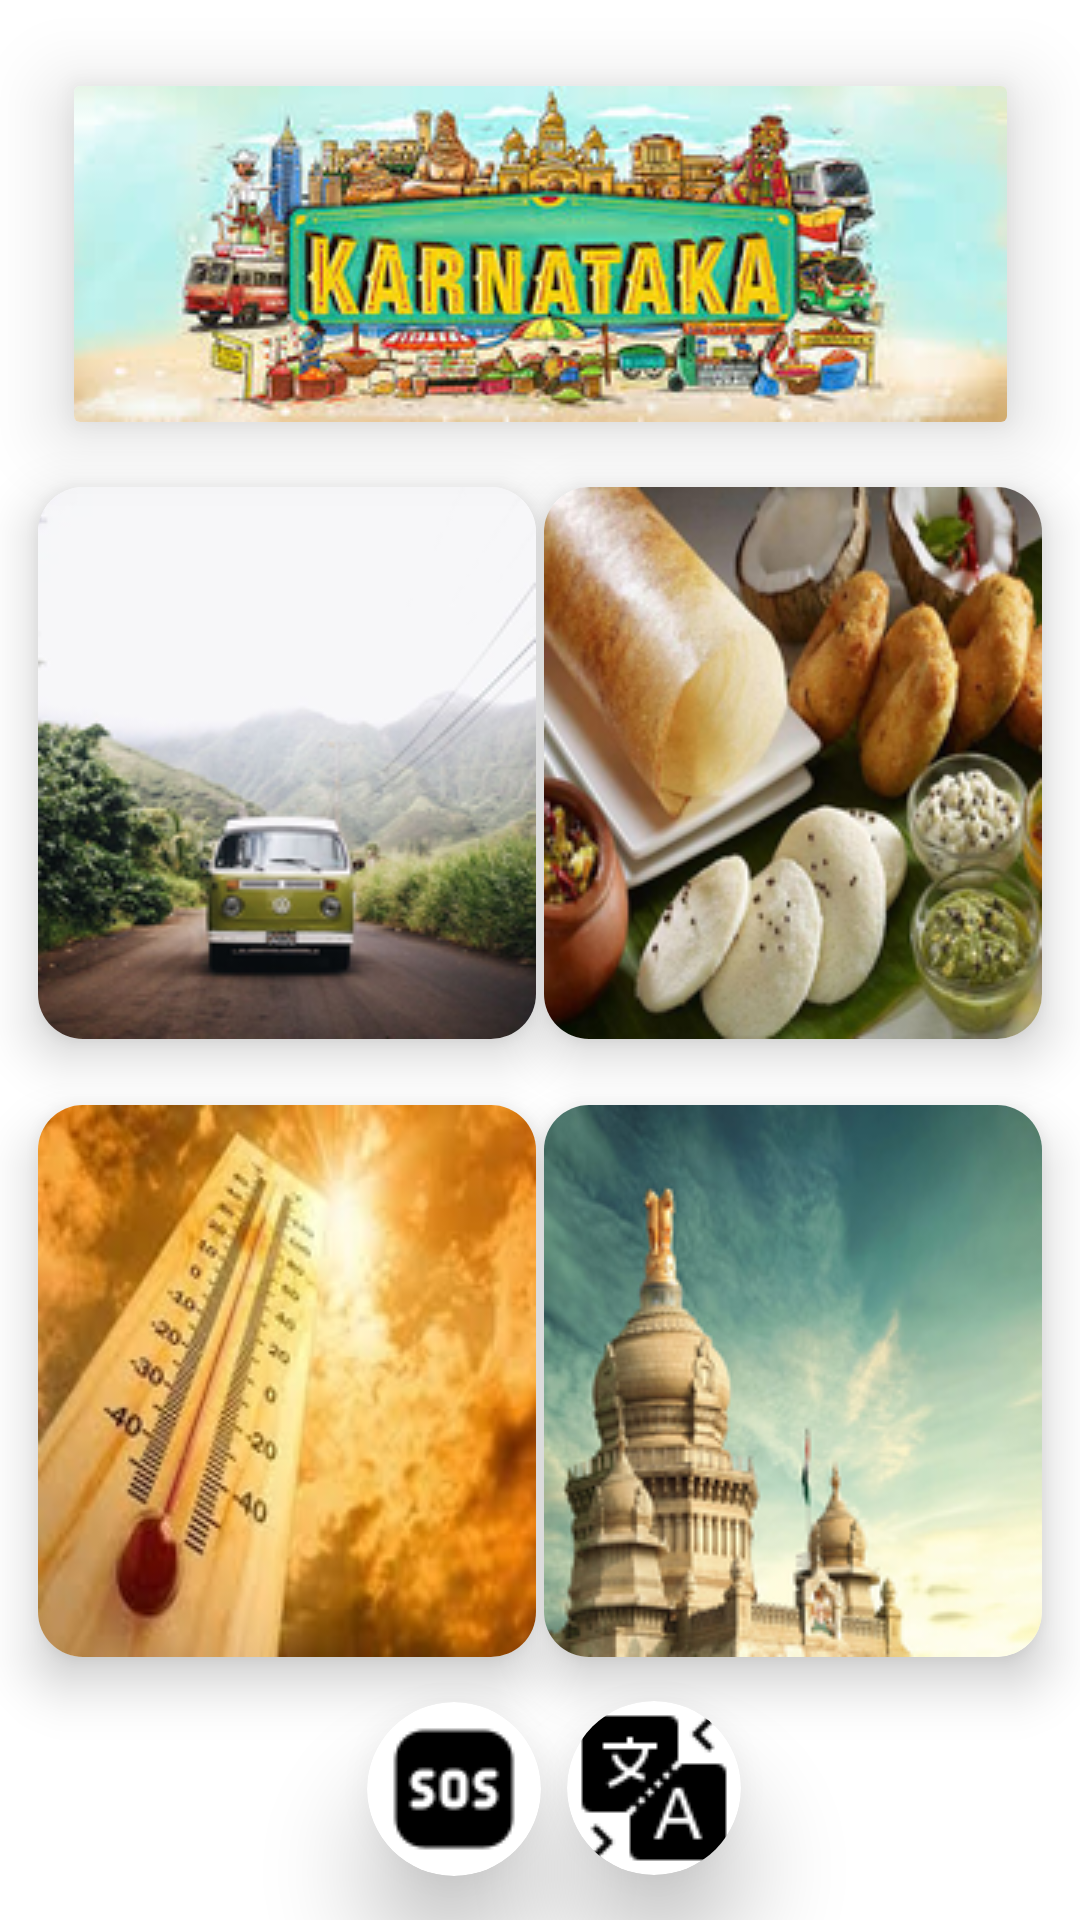

Locate icon controls on the screen. Image size 1080 × 1920, boxes as {"x1": x1, "y1": y1, "x2": x2, "y2": y2}.
lang: {"x1": 581, "y1": 1715, "x2": 727, "y2": 1875}
